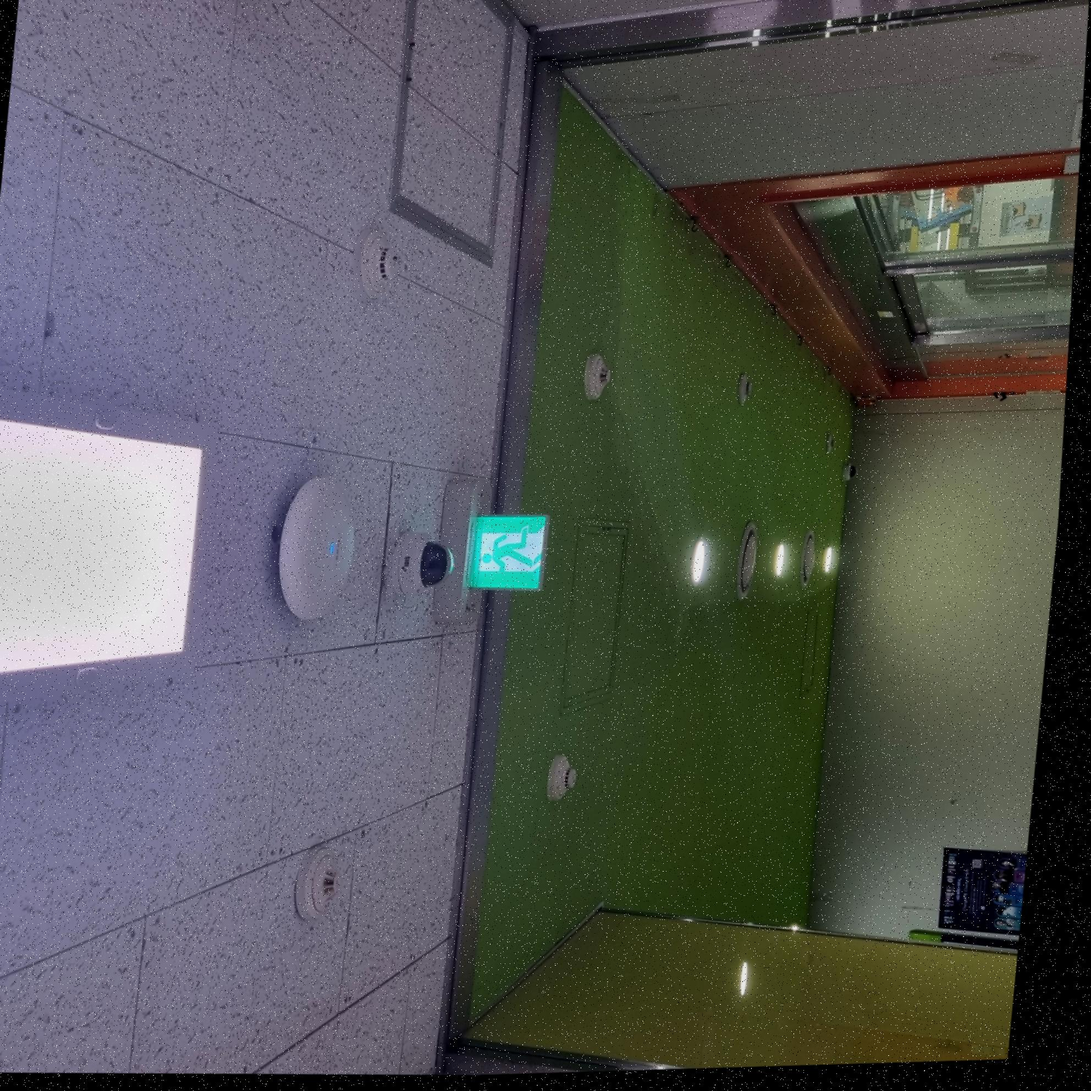emergency_exit: (463, 512, 550, 593)
